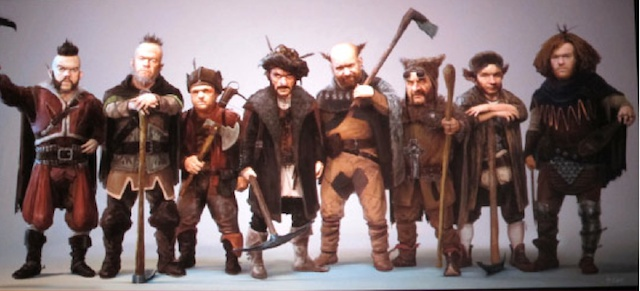bad: (129, 46, 165, 82), (49, 58, 85, 94), (397, 66, 433, 102)
